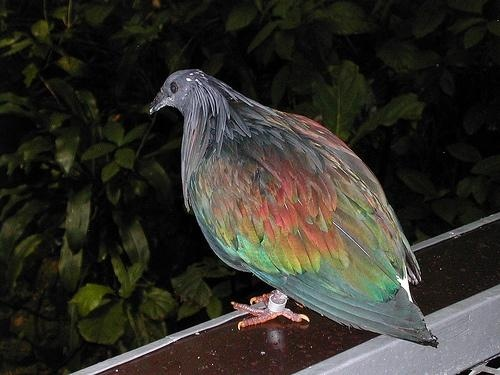bird: (146, 68, 441, 351)
